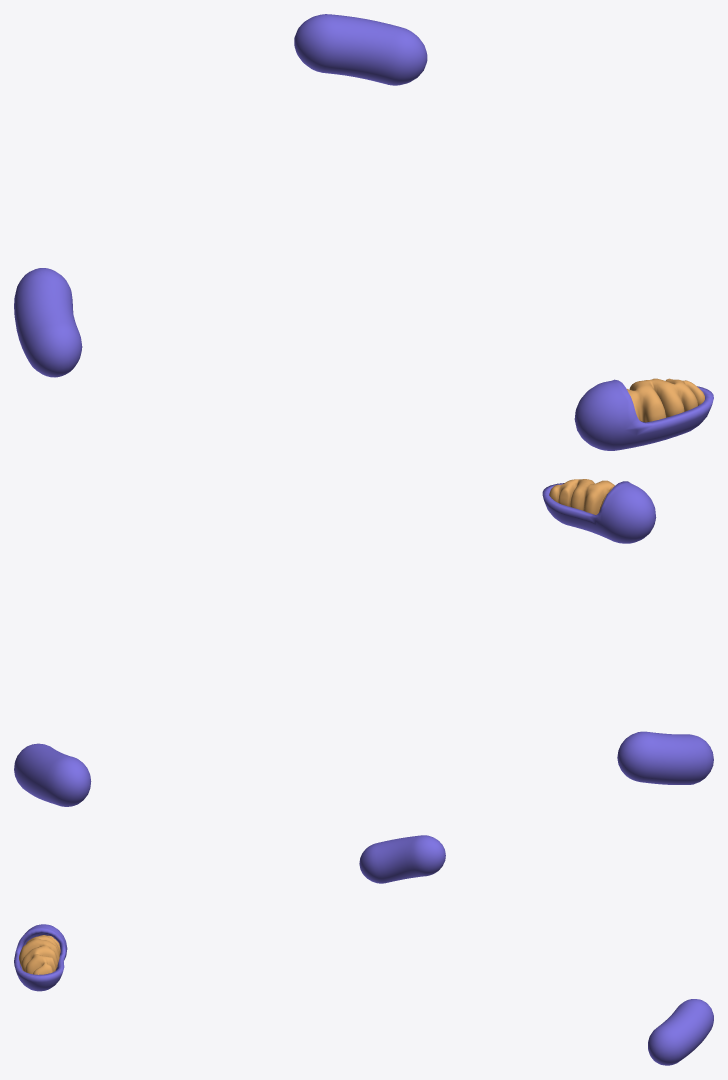
File: mitocondrio.glb
The picture shows the model from 3 angles, top to bottom: view 1: azimuth 30°, elevation 25°; view 2: azimuth 150°, elevation 25°; view 3: azimuth 270°, elevation 25°; orthographic projection. The views are drawn at different scales.
Visible parts, largest first — view 1: Sphere.002, Sphere.005; view 2: Sphere.002, Sphere.005; view 3: Sphere.002, Sphere.005.
Part boxes in pixels (x1=…): Sphere.002: x1=14, y1=14, x2=713, y2=450; Sphere.005: x1=627, y1=378, x2=704, y2=422; Sphere.002: x1=14, y1=481, x2=713, y2=806; Sphere.005: x1=549, y1=479, x2=614, y2=514; Sphere.002: x1=14, y1=835, x2=713, y2=1065; Sphere.005: x1=19, y1=935, x2=60, y2=974.
Bounding box in the file's own units: 4.17 × 0.6015 × 6.07.
